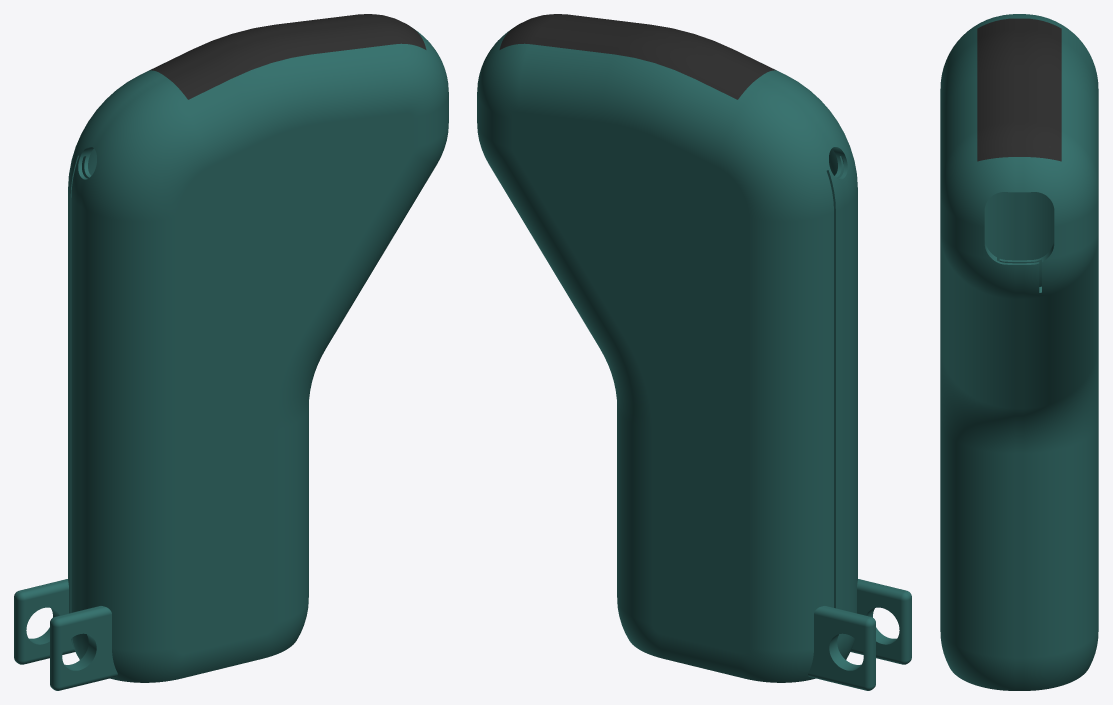
The model's file is funda_A_ML.glb.
The picture shows the model from 3 angles, left to right: view 1: azimuth 30°, elevation 25°; view 2: azimuth 150°, elevation 25°; view 3: azimuth 270°, elevation 25°; orthographic projection. The views are drawn at different scales.
Parts seen in each view (by area): view 1: funda, membrana; view 2: funda, membrana; view 3: funda, membrana.
Part boxes in pixels (x1,y1,x2,y2): funda: [14, 28, 448, 690]; membrana: [149, 14, 426, 99]; funda: [477, 28, 911, 690]; membrana: [499, 14, 776, 99]; funda: [940, 14, 1098, 690]; membrana: [977, 18, 1061, 161].
Size of the model in its own units: 35.19 by 49.06 by 11.2.
